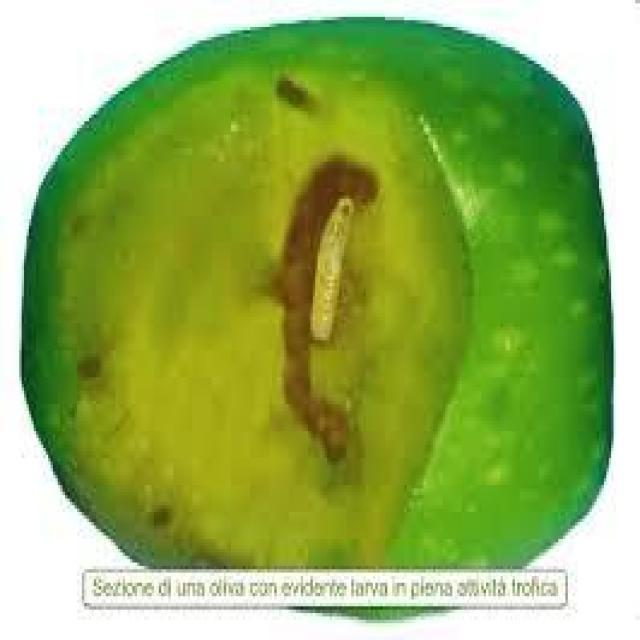Anthracnose: (22, 16, 611, 562)
